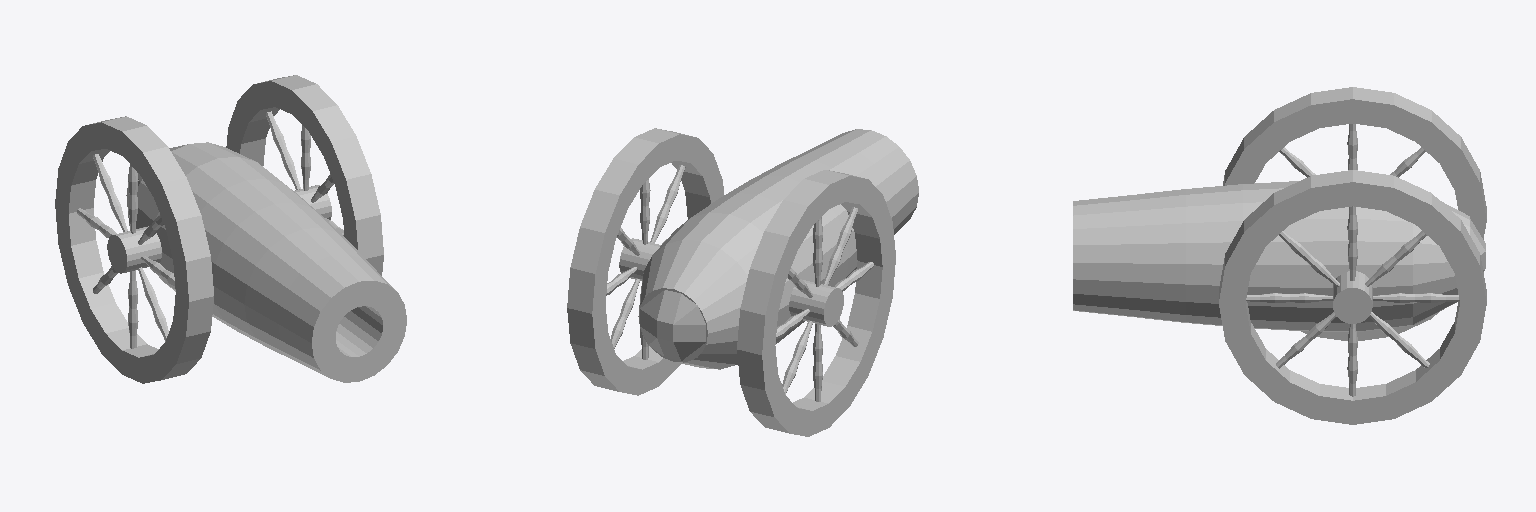
Rendered from cannon.obj.
3 views of the same model, side by side, from view 1: azimuth 30°, elevation 25°; view 2: azimuth 150°, elevation 25°; view 3: azimuth 270°, elevation 25° (orthographic).
Visible parts, largest first — view 1: pPipe2, pCube13, pCube11 pCube9; view 2: pCube13, pPipe2, pCube11 pCube9; view 3: pPipe2, pCube11 pCube9, pCube13.
Boxes of the visible parts, <box> form: pPipe2: <box>126,142,406,382</box>; pCube13: <box>55,116,213,383</box>; pCube11 pCube9: <box>226,75,383,275</box>; pCube13: <box>737,170,895,436</box>; pPipe2: <box>638,129,918,369</box>; pCube11 pCube9: <box>567,128,723,395</box>; pPipe2: <box>1073,181,1485,331</box>; pCube11 pCube9: <box>1219,170,1486,424</box>; pCube13: <box>1223,87,1486,340</box>.
Size of the model in its own units: 2.41 by 2.73 by 4.22.